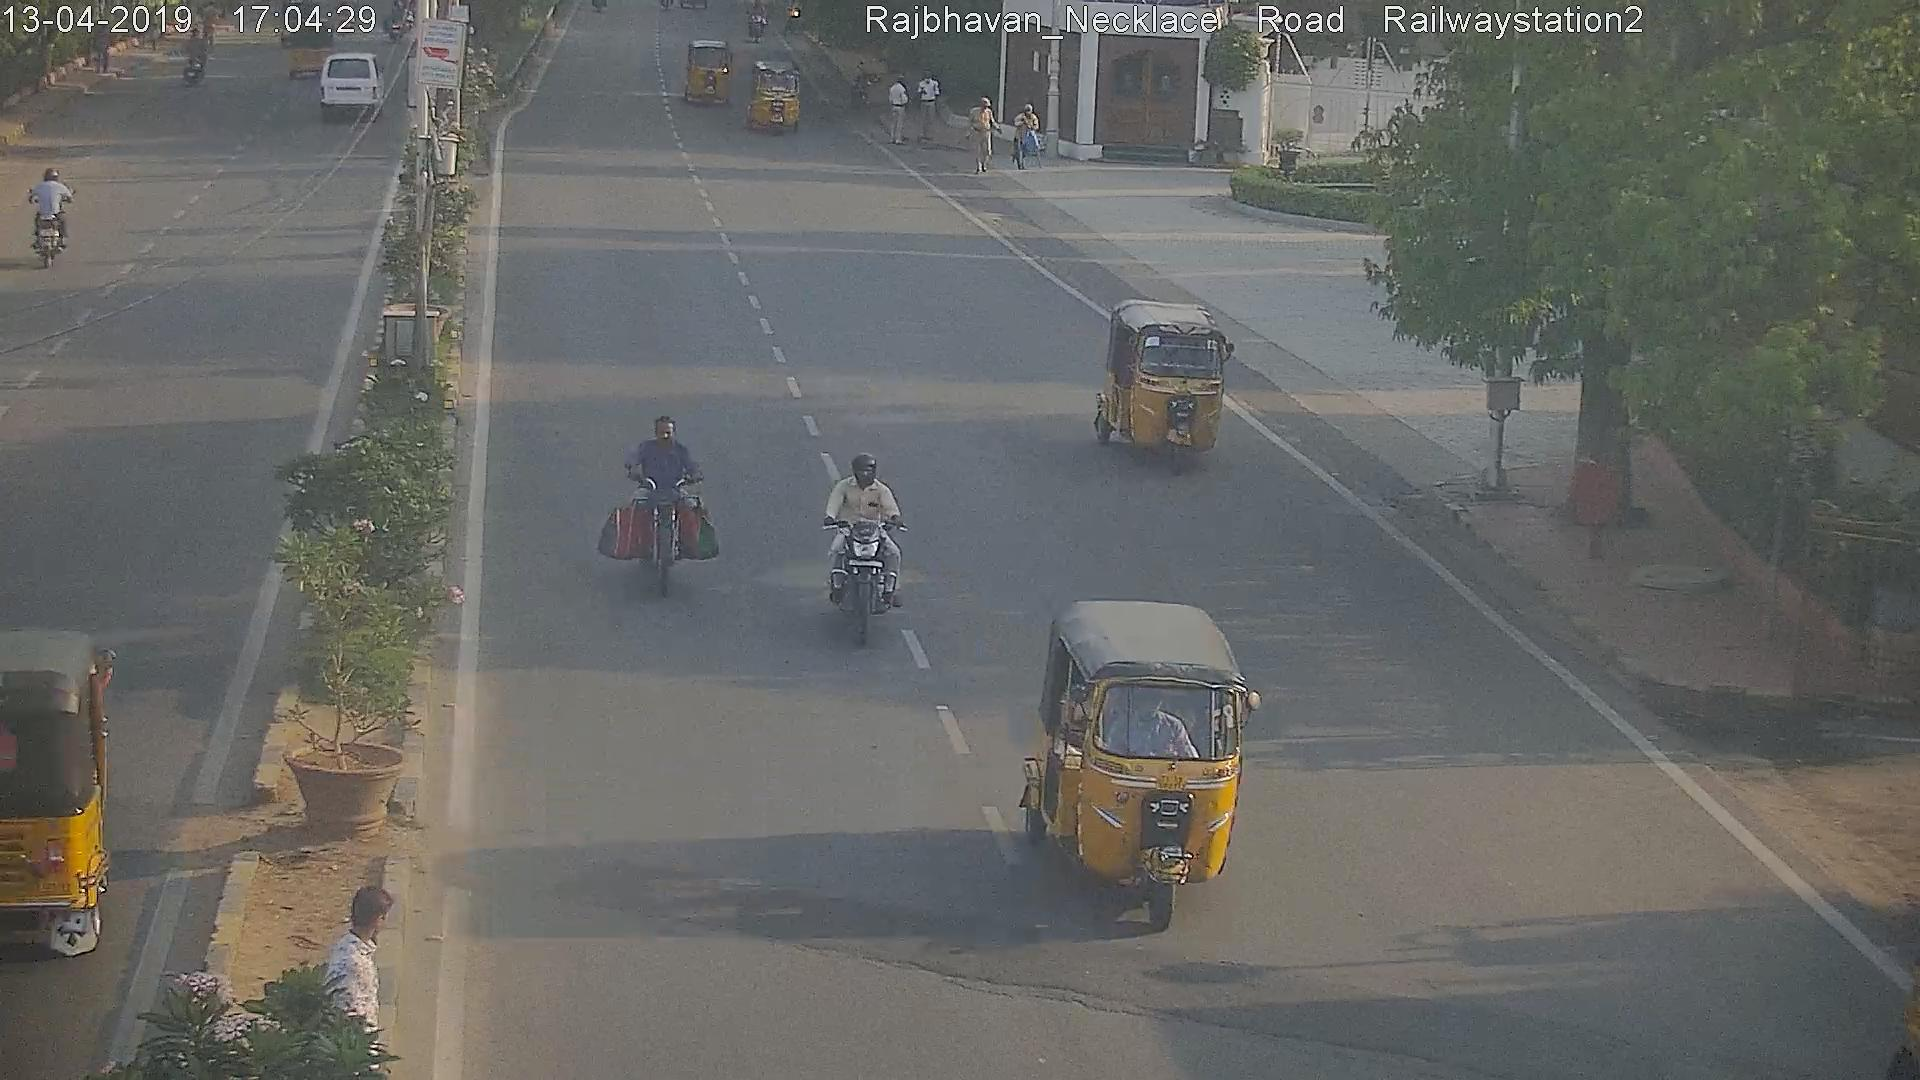2Wheeler: (814, 454, 909, 650), (626, 414, 703, 597), (26, 167, 80, 276), (746, 1, 766, 41)
